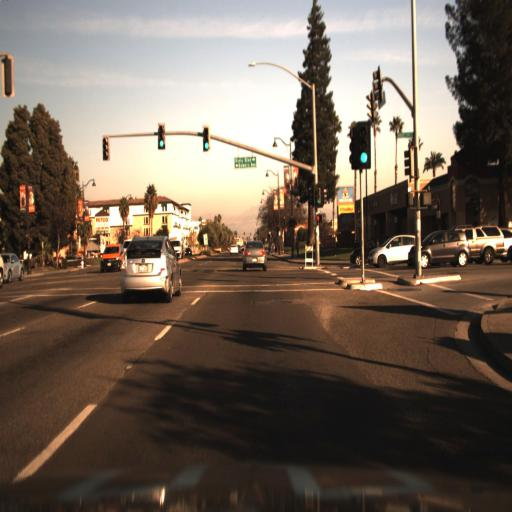car: (118, 234, 185, 305), (407, 226, 470, 270), (453, 224, 503, 265), (368, 233, 413, 270), (238, 235, 269, 275), (99, 239, 127, 275), (0, 252, 26, 286), (349, 236, 372, 269), (226, 241, 241, 262)
trafficLight: (101, 134, 110, 159)
trafficLight-Green: (355, 119, 369, 168), (155, 121, 166, 154), (154, 124, 165, 148), (202, 125, 211, 154), (314, 185, 324, 207)
